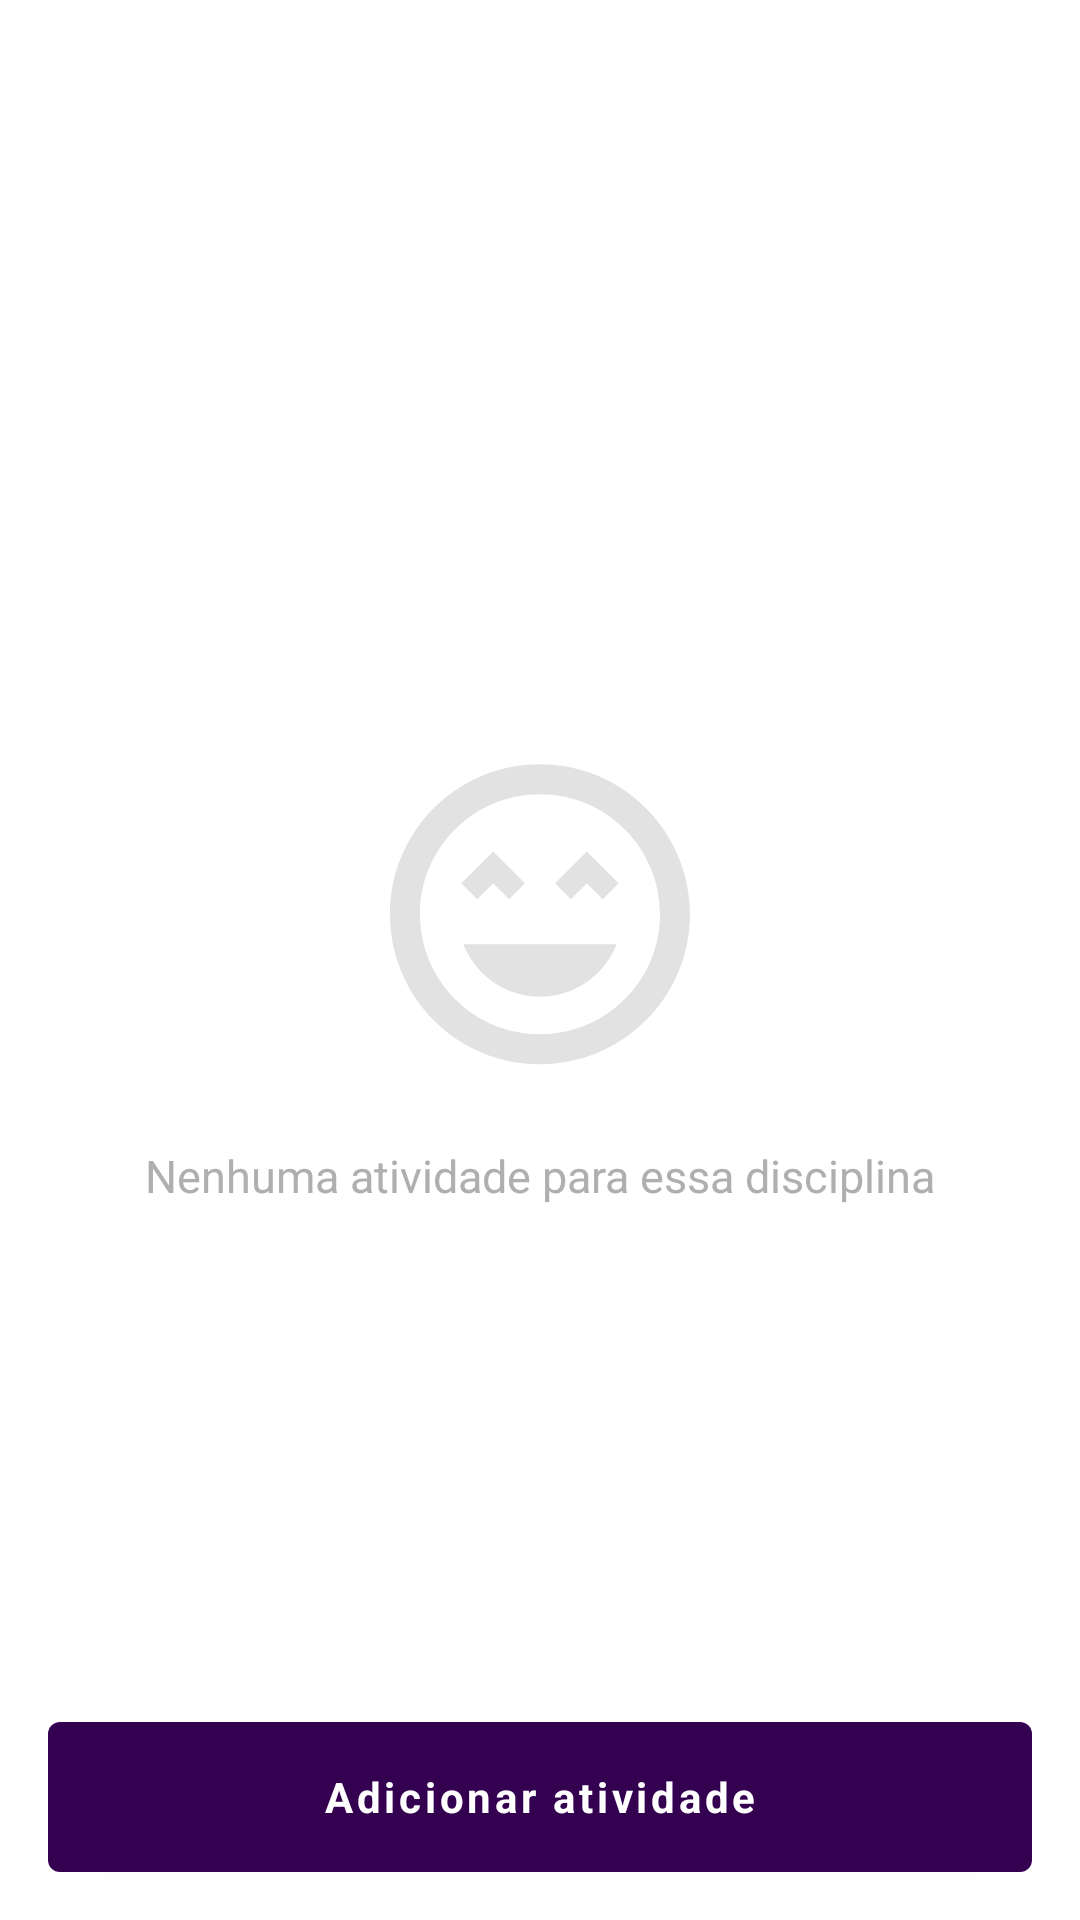

Screen size 1080*1920. Icon name, then its box in pixels as BBox(x1, y1, x2, y2):
very happy: BBox(390, 765, 690, 1064)
